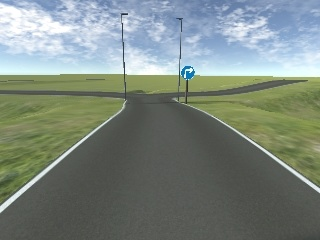turn_right_sign: (178, 62, 195, 80)
